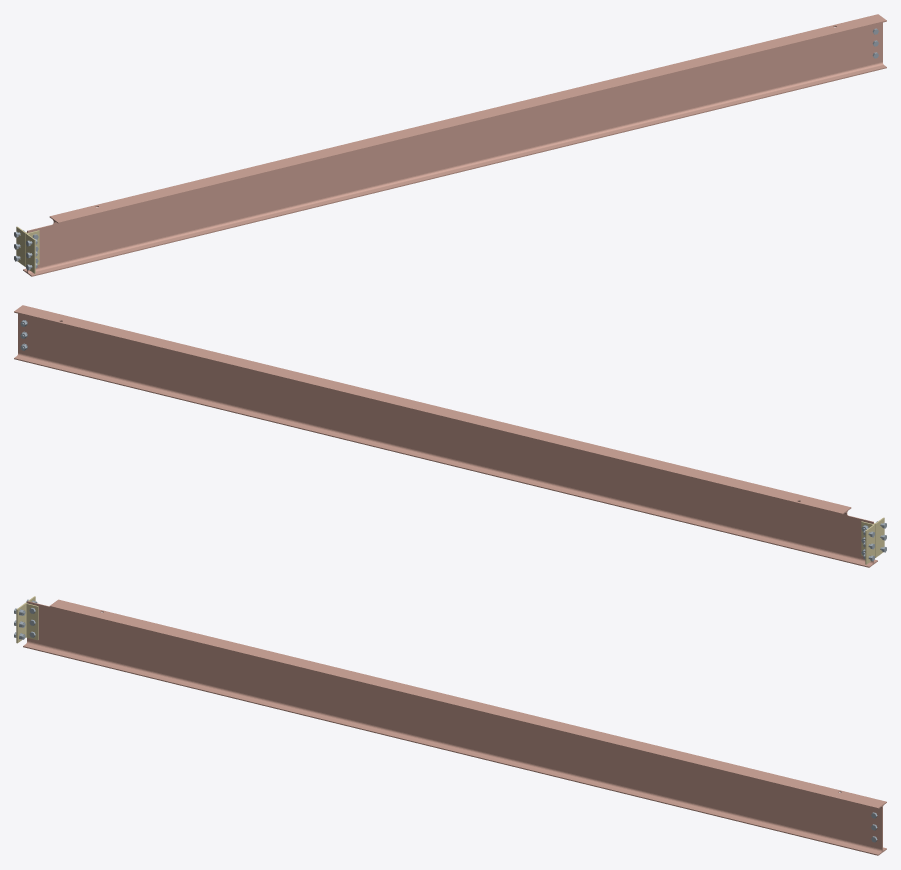
3 views of the same model, one above another, from view 1: azimuth 30°, elevation 25°; view 2: azimuth 150°, elevation 25°; view 3: azimuth 330°, elevation 25° (orthographic).
Parts seen in each view (by area): view 1: product-522197f1-79fb-492a-8f61-708c966f767d-body; view 2: product-522197f1-79fb-492a-8f61-708c966f767d-body; view 3: product-522197f1-79fb-492a-8f61-708c966f767d-body, product-cd2f0012-7adf-499a-9475-766c4f362249-body.
Boxes of the visible parts, bbox=[...] form: product-522197f1-79fb-492a-8f61-708c966f767d-body: bbox=[23, 14, 886, 276]; product-522197f1-79fb-492a-8f61-708c966f767d-body: bbox=[14, 305, 877, 567]; product-522197f1-79fb-492a-8f61-708c966f767d-body: bbox=[23, 599, 886, 855]; product-cd2f0012-7adf-499a-9475-766c4f362249-body: bbox=[16, 603, 38, 643].
Size of the model in its own units: 5.76 by 0.3048 by 0.2088.
